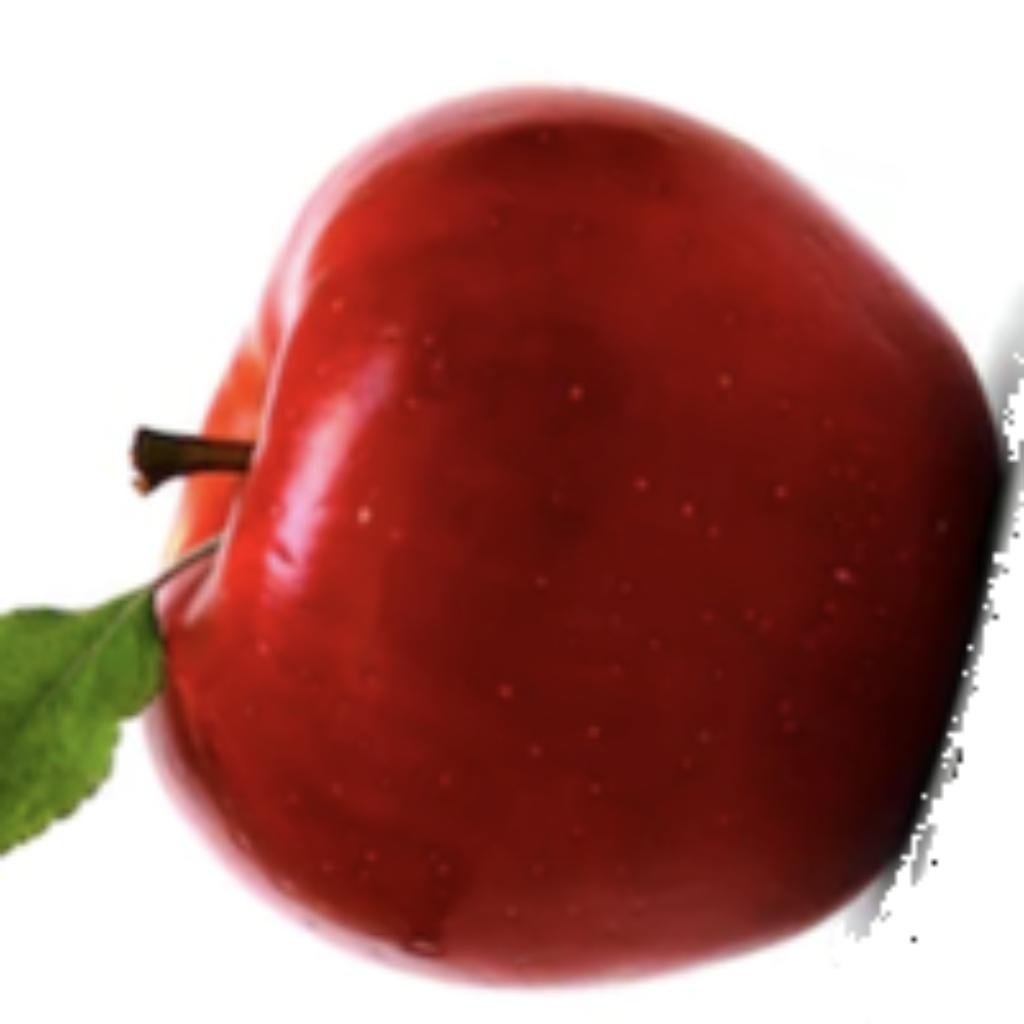apple: (0, 77, 1019, 993)
